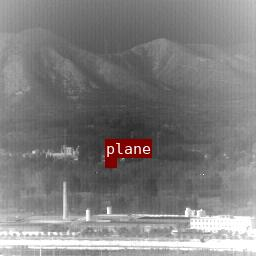plane: (105, 158, 116, 167)
